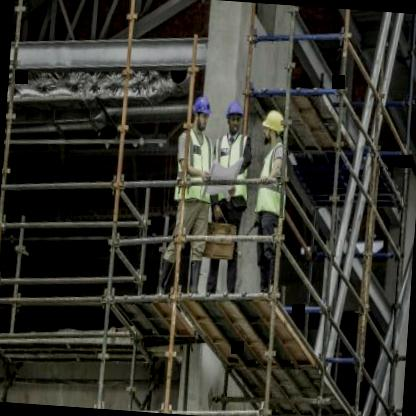helmet: (260, 108, 287, 144), (190, 93, 212, 134), (222, 98, 245, 136)
